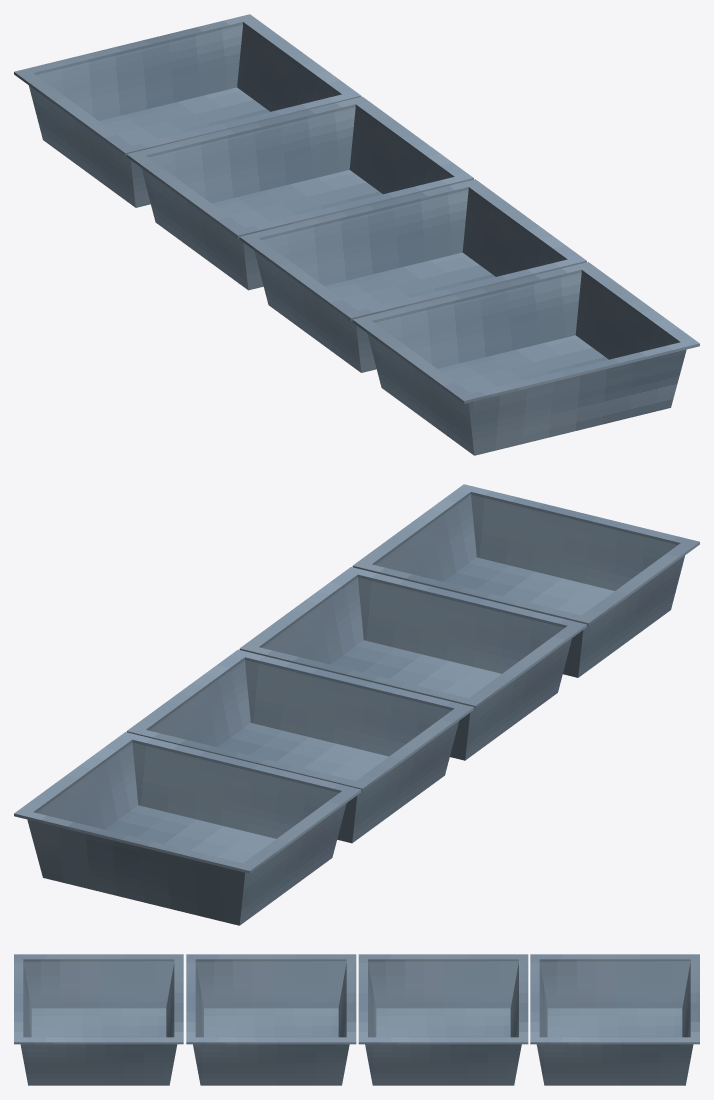
The model's file is kastrul.fbx.
3 renders of one model, top to bottom at view 1: azimuth 30°, elevation 25°; view 2: azimuth 150°, elevation 25°; view 3: azimuth 270°, elevation 25°, orthographic. The views are drawn at different scales.
Parts seen in each view (by area): view 1: Cube.002; view 2: Cube.002; view 3: Cube.002.
Part boxes in pixels (box(x1,y1,x2,y2)): Cube.002: box(14, 14, 699, 455); Cube.002: box(14, 484, 699, 925); Cube.002: box(14, 954, 699, 1085).
Bounding box in the file's own units: 147 × 39.49 × 486.
